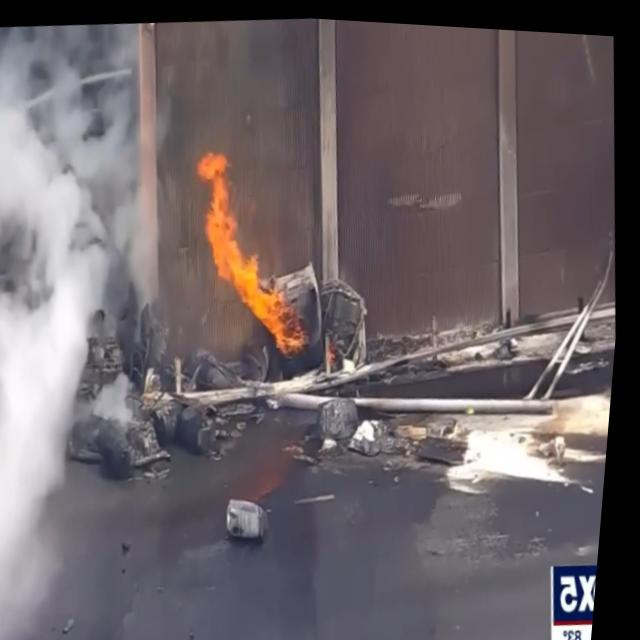Fire: (188, 134, 325, 361)
